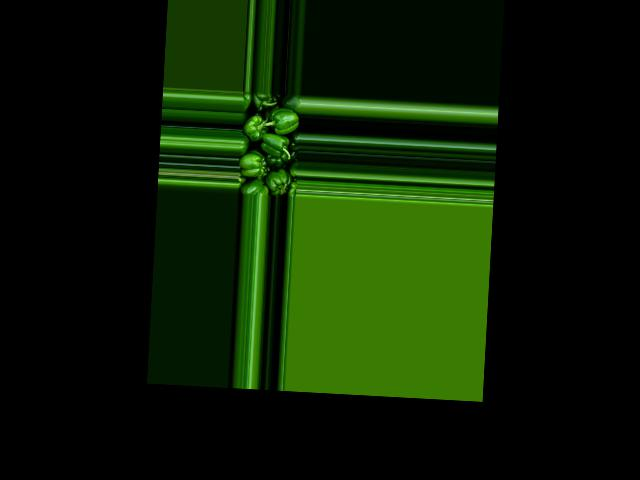bell_pepper: (281, 93, 301, 117)
